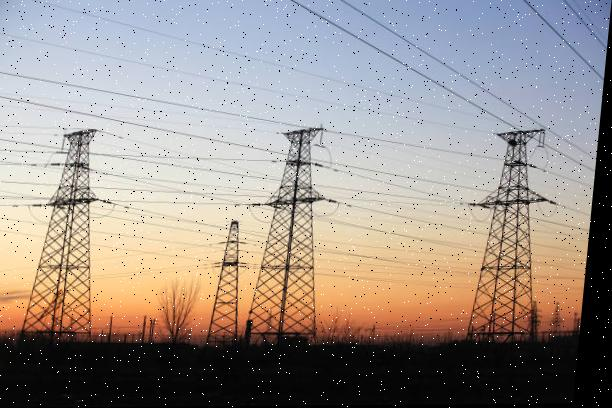tower: (15, 115, 132, 343), (457, 119, 562, 340), (244, 121, 343, 342), (208, 217, 252, 348)
